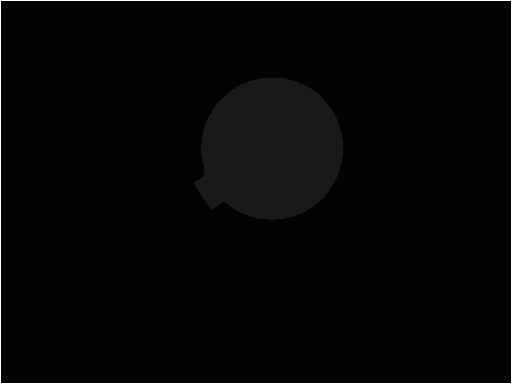speaker: (194, 77, 344, 222)
